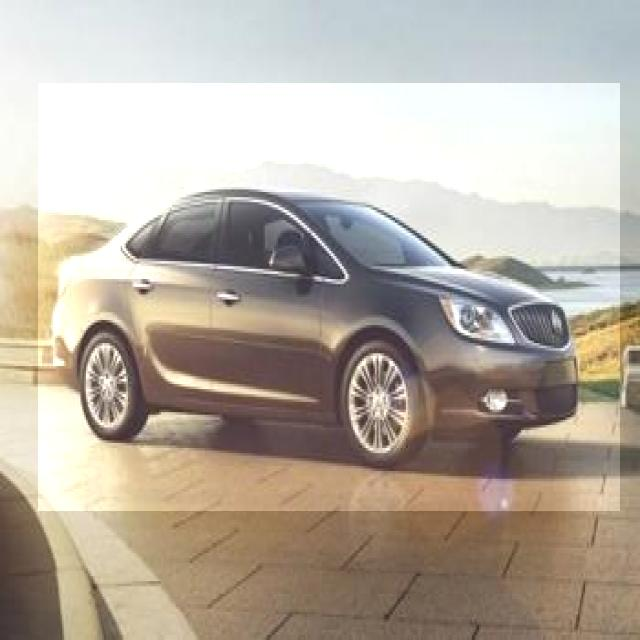Car: (38, 83, 620, 511)
